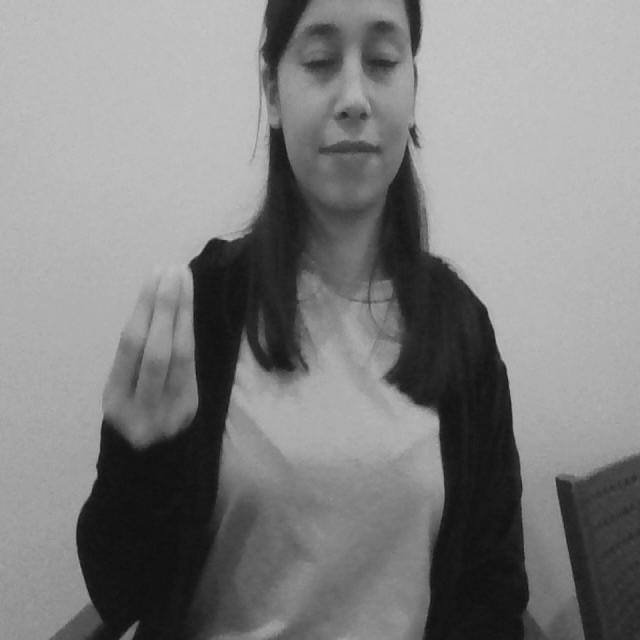iyi: (98, 259, 215, 450)
